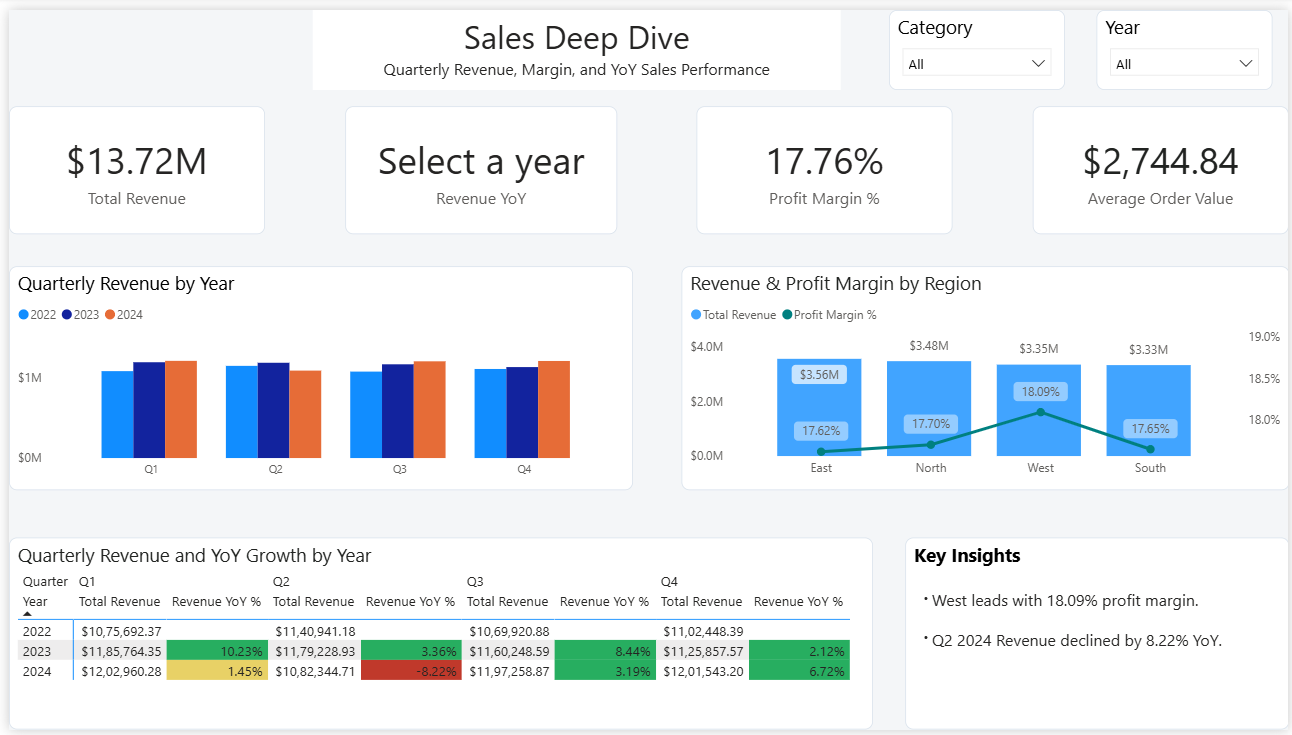

The page's visual inventory and layout, read from the dashboard file:
{"tool":"powerbi","page":{"name":"Sales Deep Dive","canvas":[1280,720],"ordinal":1},"visuals":[{"type":"clusteredColumnChart","title":"Quarterly Revenue by Year","fields":{"Category":["DimDate.Quarter"],"Y":["_TableMeasures.Total Revenue"],"Series":["DimDate.Year"]},"box":[0,256,624,224],"z":0},{"type":"pivotTable","title":"Quarterly Revenue and YoY Growth by Year","fields":{"Rows":["DimDate.Year"],"Columns":["DimDate.Quarter"],"Values":["_TableMeasures.Total Revenue","_TableMeasures.Revenue YoY %"]},"box":[0,528,864,192],"z":1000},{"type":"lineClusteredColumnComboChart","title":"Revenue & Profit Margin by Region","fields":{"Category":["FactSales.Region"],"Y":["_TableMeasures.Total Revenue"],"Y2":["_TableMeasures.Profit Margin %"]},"box":[672,256,608,224],"z":2000},{"type":"textbox","title":"Key Insights","box":[896,528,384,192],"z":3000},{"type":"textbox","box":[304,0,528,80],"z":4000},{"type":"card","title":"Total Revenue","fields":{"Values":["_TableMeasures.Total Revenue"]},"box":[0,96,256,128],"z":5000},{"type":"card","title":"Total Profit","fields":{"Values":["_TableMeasures.Revenue YoY Message"]},"box":[336,96,272,128],"z":6000},{"type":"card","title":"Total Orders","fields":{"Values":["_TableMeasures.Profit Margin %"]},"box":[688,96,256,128],"z":7000},{"type":"card","title":"Profit Margin %","fields":{"Values":["_TableMeasures.Average Order Value"]},"box":[1024,96,256,128],"z":8000},{"type":"slicer","title":"Year","fields":{"Values":["DimCustomers.Segment"]},"box":[1088,0,176,80],"z":9000},{"type":"slicer","title":"Category","fields":{"Values":["DimProducts.Category"]},"box":[880,0,176,80],"z":10000}]}

Visuals, with their boxes in screenshot pixels (x1, y1, x2, y2), scaled from the page's 1280x720 canvas onto the 1292x735 screenshot:
"Quarterly Revenue by Year" clusteredColumnChart: rect(0, 261, 630, 490)
"Quarterly Revenue and YoY Growth by Year" pivotTable: rect(0, 539, 872, 734)
"Revenue & Profit Margin by Region" lineClusteredColumnComboChart: rect(678, 261, 1291, 490)
"Key Insights" textbox: rect(904, 539, 1291, 734)
textbox: rect(307, 0, 840, 82)
"Total Revenue" card: rect(0, 98, 258, 229)
"Total Profit" card: rect(339, 98, 614, 229)
"Total Orders" card: rect(694, 98, 953, 229)
"Profit Margin %" card: rect(1034, 98, 1291, 229)
"Year" slicer: rect(1098, 0, 1276, 82)
"Category" slicer: rect(888, 0, 1066, 82)
